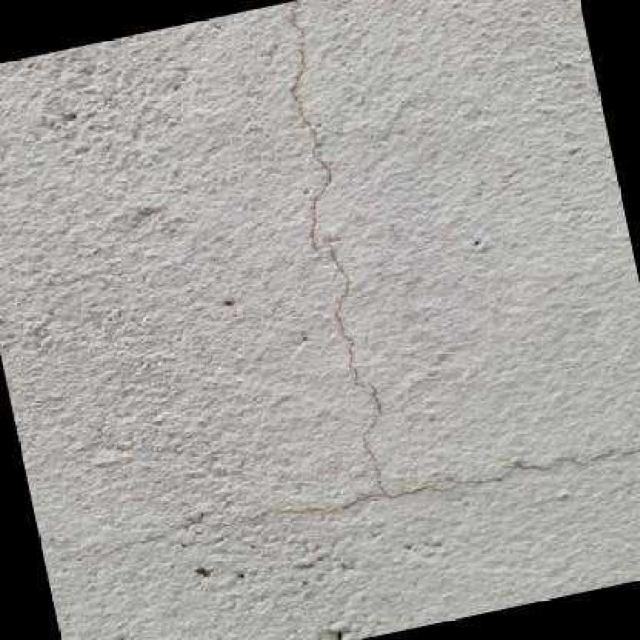D00: (38, 0, 640, 558)
